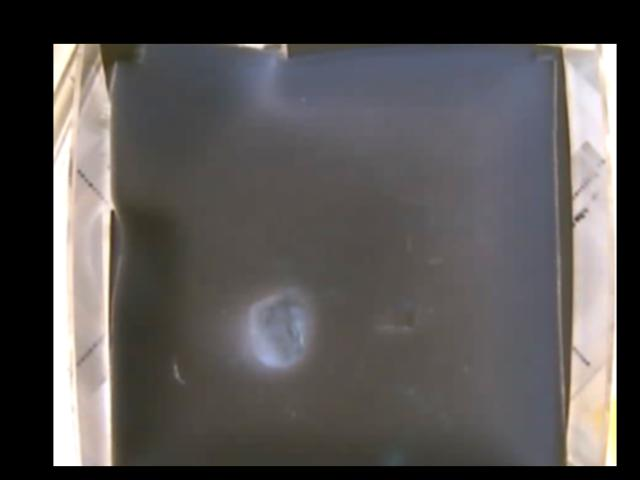Pebble: (247, 291, 308, 366)
